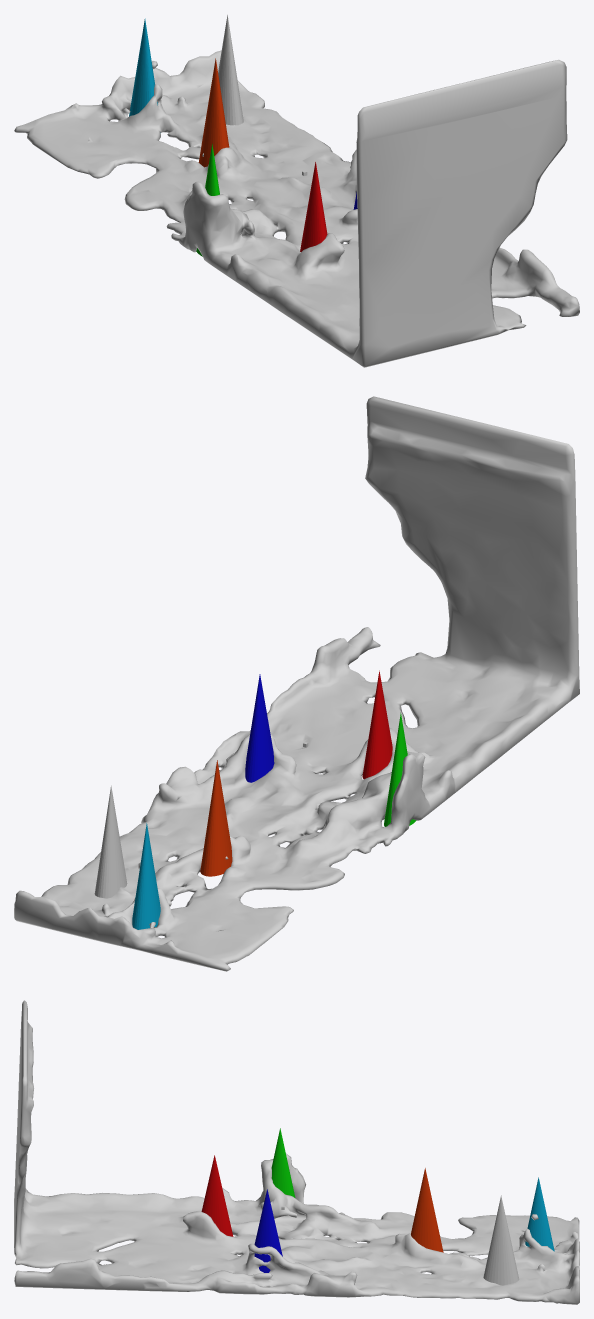
The picture shows the model from 3 angles, top to bottom: view 1: azimuth 30°, elevation 25°; view 2: azimuth 150°, elevation 25°; view 3: azimuth 270°, elevation 25°; orthographic projection. The views are drawn at different scales.
Visible parts, largest first — view 1: Liquid_Domain, 円錐.004, 円錐, 円錐.005, 円錐.001, 円錐.003; view 2: Liquid_Domain, 円錐.004, 円錐, 円錐.002, 円錐.005, 円錐.001, 円錐.003; view 3: Liquid_Domain, 円錐, 円錐.004, 円錐.001, 円錐.002, 円錐.005, 円錐.003.
Boxes of the visible parts, left/top/right/bottom form: Liquid_Domain: left=14, top=50, right=579, bottom=367; 円錐.004: left=198, top=58, right=229, bottom=167; 円錐: left=218, top=15, right=243, bottom=125; 円錐.005: left=129, top=18, right=157, bottom=116; 円錐.001: left=300, top=162, right=327, bottom=251; 円錐.003: left=196, top=144, right=219, bottom=256; Liquid_Domain: left=14, top=396, right=579, bottom=971; 円錐.004: left=200, top=760, right=232, bottom=876; 円錐: left=94, top=785, right=127, bottom=898; 円錐.002: left=245, top=674, right=274, bottom=782; 円錐.005: left=132, top=823, right=160, bottom=929; 円錐.001: left=362, top=670, right=392, bottom=779; 円錐.003: left=384, top=712, right=416, bottom=826; Liquid_Domain: left=14, top=1000, right=579, bottom=1304; 円錐: left=483, top=1195, right=519, bottom=1285; 円錐.004: left=411, top=1168, right=443, bottom=1252; 円錐.001: left=201, top=1155, right=233, bottom=1236; 円錐.002: left=254, top=1189, right=282, bottom=1272; 円錐.005: left=525, top=1177, right=554, bottom=1251; 円錐.003: left=271, top=1128, right=295, bottom=1197.
Size of the model in its own units: 129 by 158 by 361.
